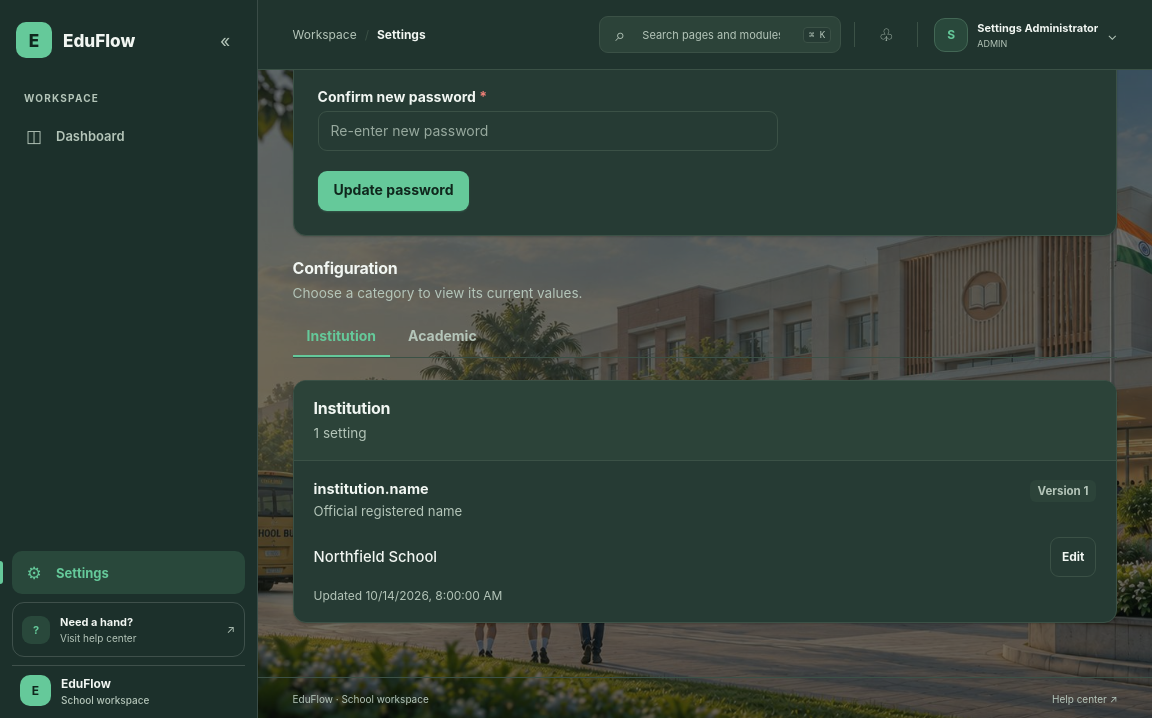
Settings workspace › saves changes and reports the version returned by the API
The image size is (1152, 718).
(page scrolled)
Click the button "Edit" at (1073, 557), box [1050, 537, 1096, 577]
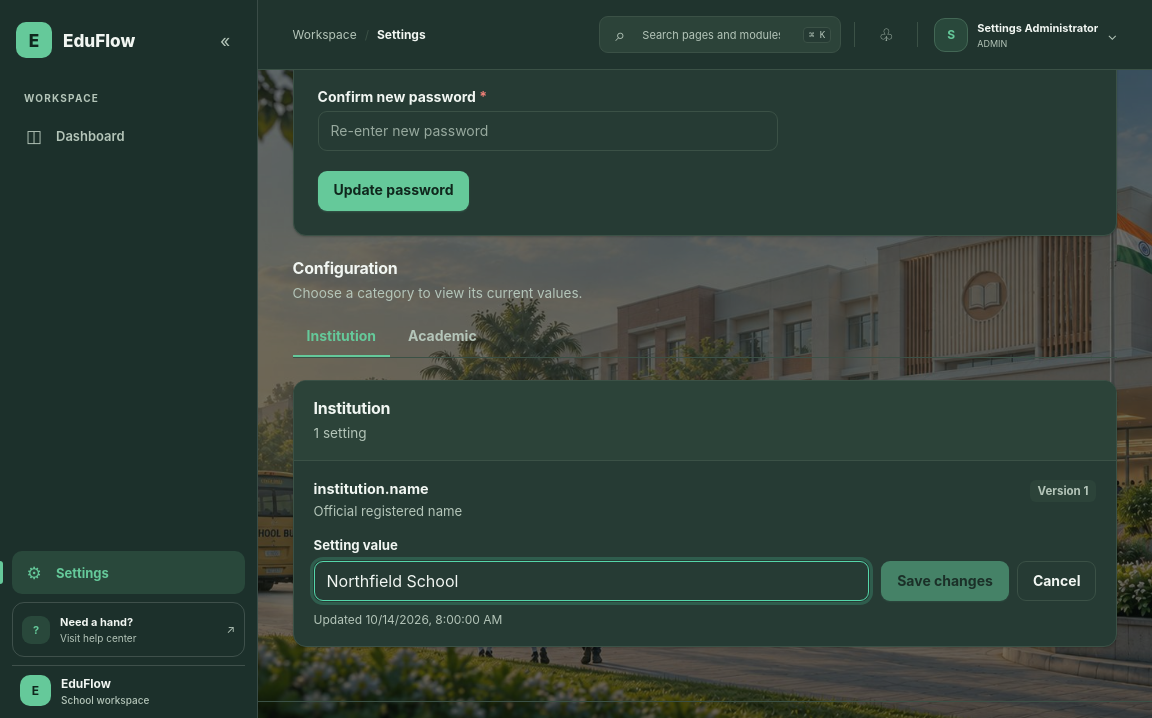
Replace the text in the field labelled "Setting value" with "Northfield Academy" at (591, 581), box [314, 561, 869, 601]
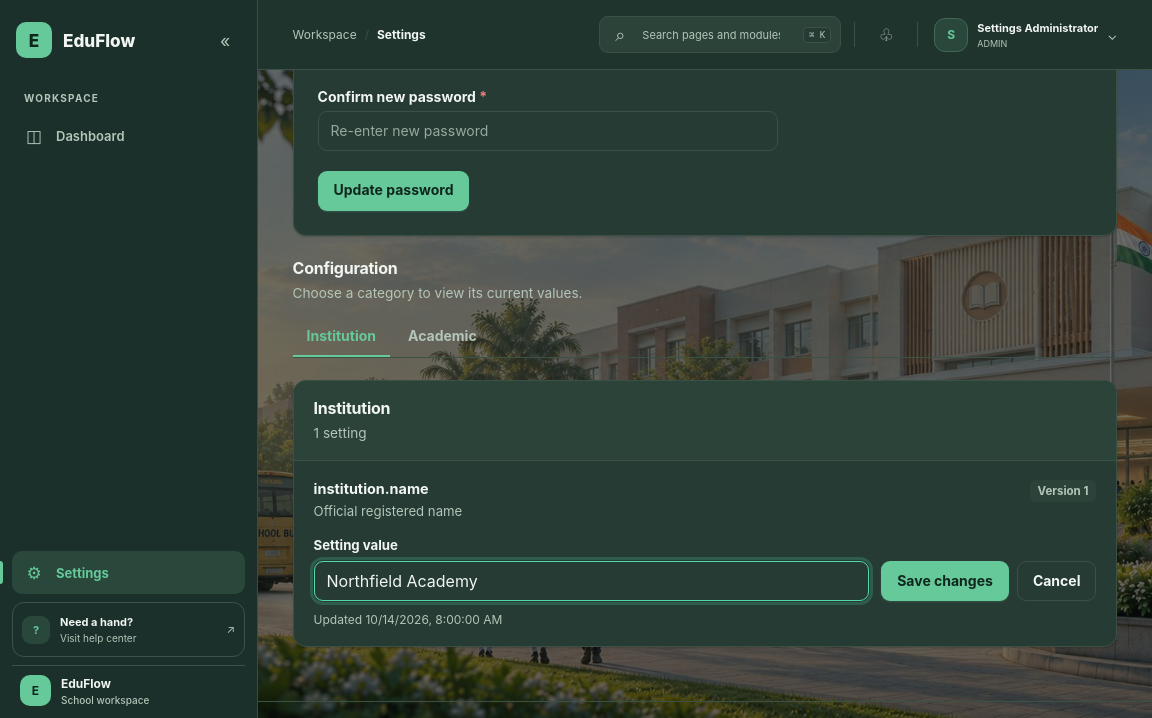
Click the button "Save changes" at (945, 581), box [881, 561, 1009, 601]
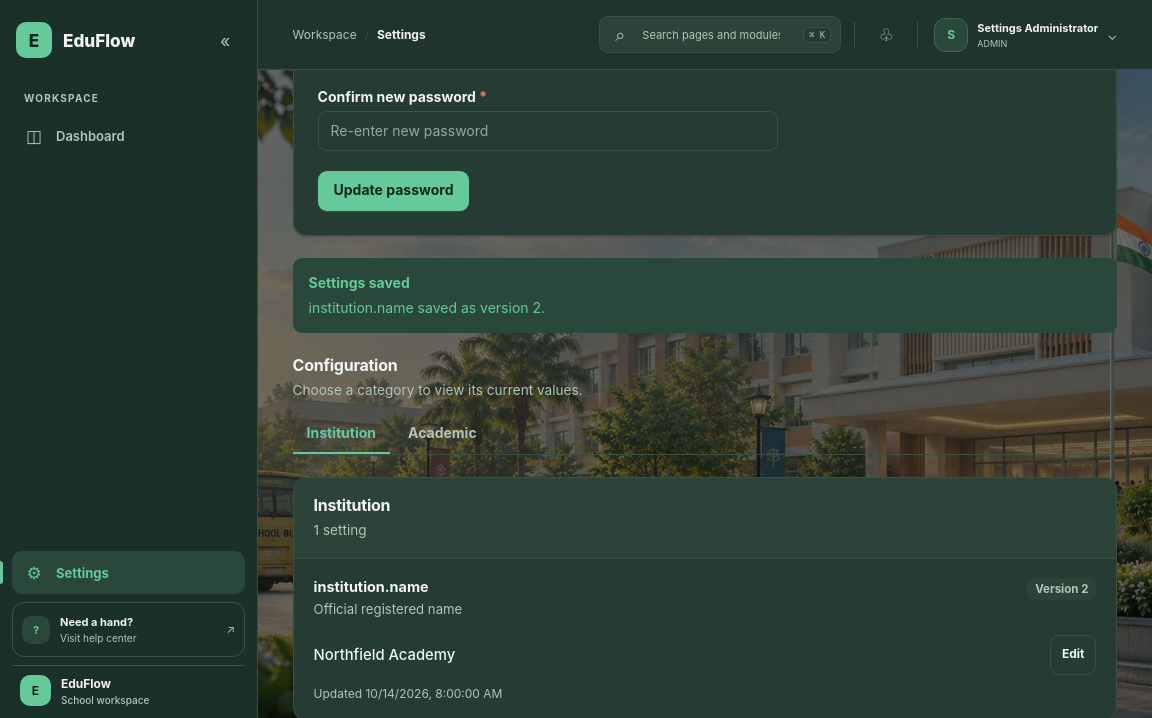
Result: the text "institution.name saved as version 2." is shown at [308, 299, 545, 316]
